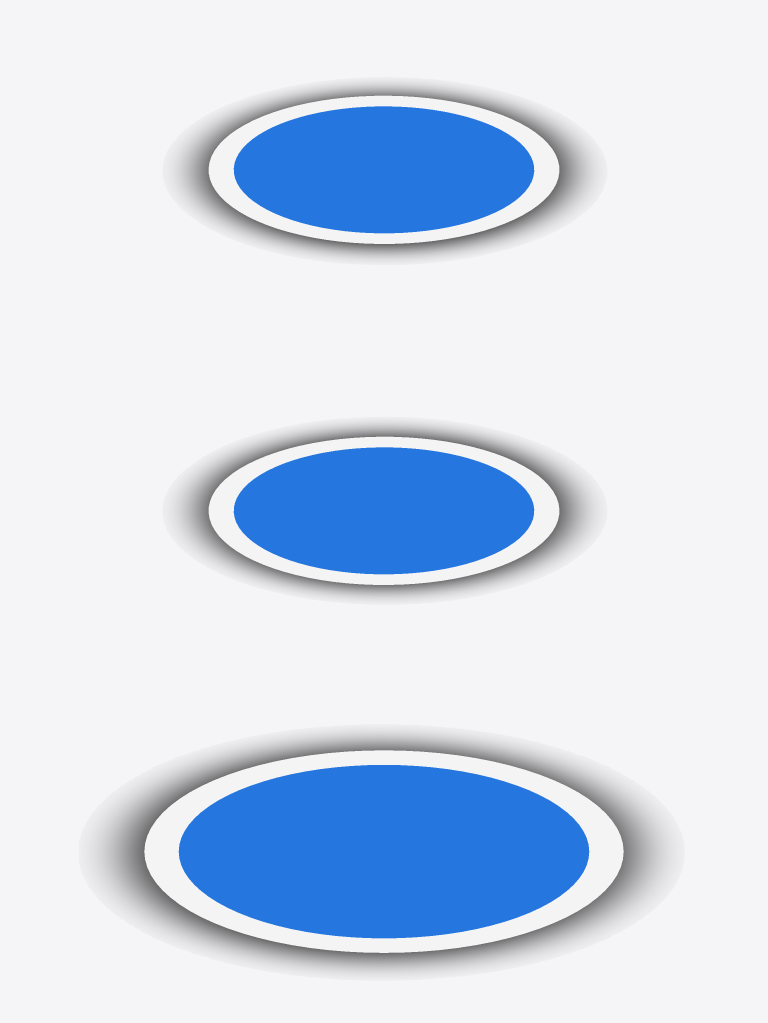
Rendered from my_location_dot.glb.
3 renders of one model, top to bottom at view 1: azimuth 30°, elevation 25°; view 2: azimuth 150°, elevation 25°; view 3: azimuth 270°, elevation 25°, orthographic. The views are drawn at different scales.
Visible parts, largest first — view 1: Disc, DropShadow; view 2: Disc, DropShadow; view 3: Disc, DropShadow.
Boxes of the visible parts, x1=… form: Disc: x1=208, y1=95, x2=559, y2=243; DropShadow: x1=181, y1=85, x2=588, y2=256; Disc: x1=208, y1=436, x2=559, y2=584; DropShadow: x1=181, y1=425, x2=588, y2=596; Disc: x1=144, y1=750, x2=623, y2=952; DropShadow: x1=103, y1=735, x2=659, y2=969.
Bounding box in the file's own units: 1.54 × 0.002 × 1.54.
3 materials, 1 textured.
